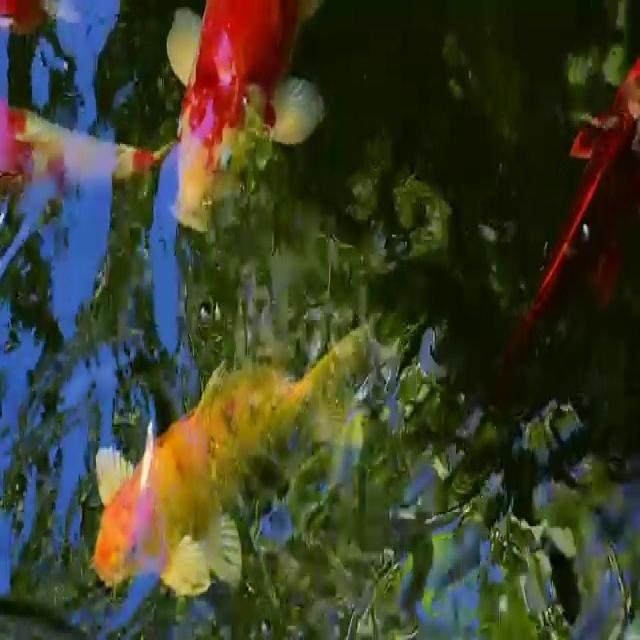fish: (86, 323, 402, 602), (158, 0, 328, 239)
